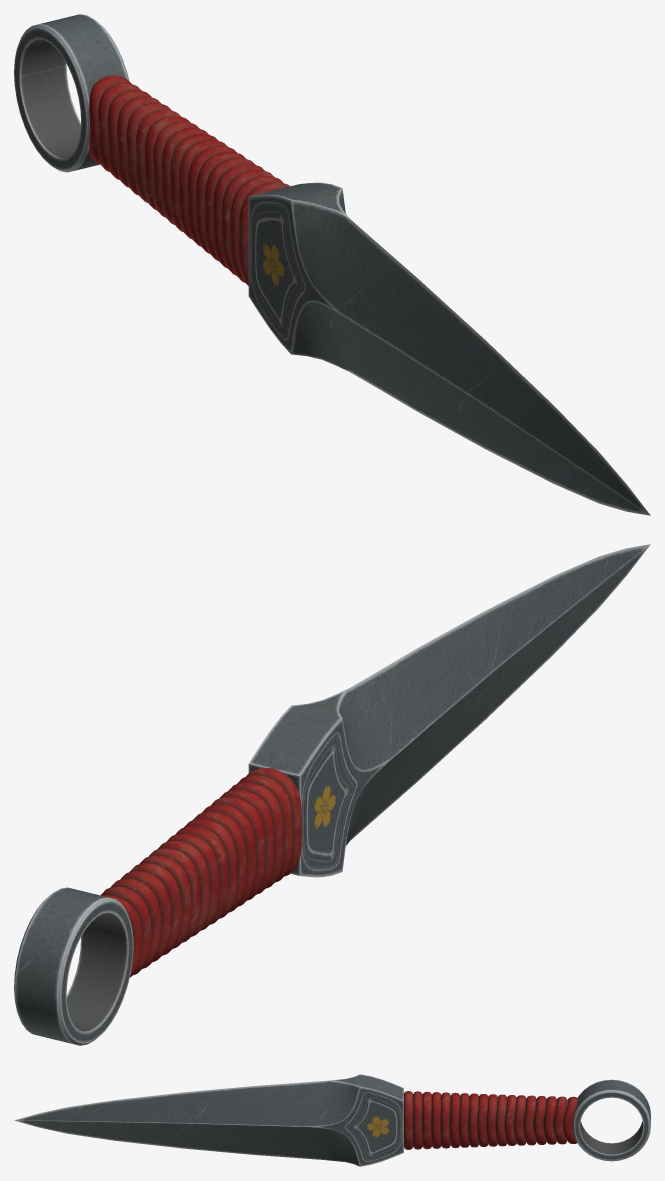
The model's file is kunai.glb.
3 views of the same model, one above another, from view 1: azimuth 30°, elevation 25°; view 2: azimuth 150°, elevation 25°; view 3: azimuth 270°, elevation 25° (orthographic). The views are drawn at different scales.
Parts seen in each view (by area): view 1: kunai; view 2: kunai; view 3: kunai.
Part boxes in pixels (x1,y1,x2,y2): kunai: (14, 14, 650, 515); kunai: (14, 544, 650, 1045); kunai: (14, 1074, 650, 1166).
Size of the model in its own units: 0.0142 by 0.0346 by 0.25.
2 materials, 2 textured.
